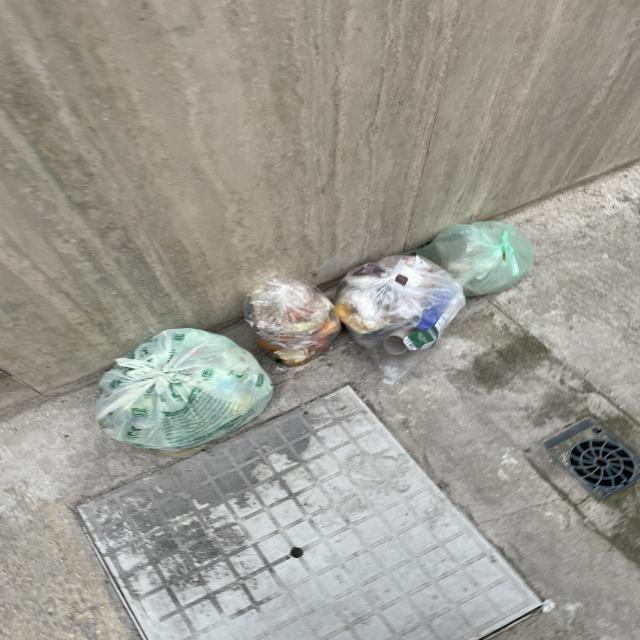white_bag: (106, 330, 269, 464), (331, 254, 472, 360), (412, 220, 545, 300), (240, 272, 352, 362)
